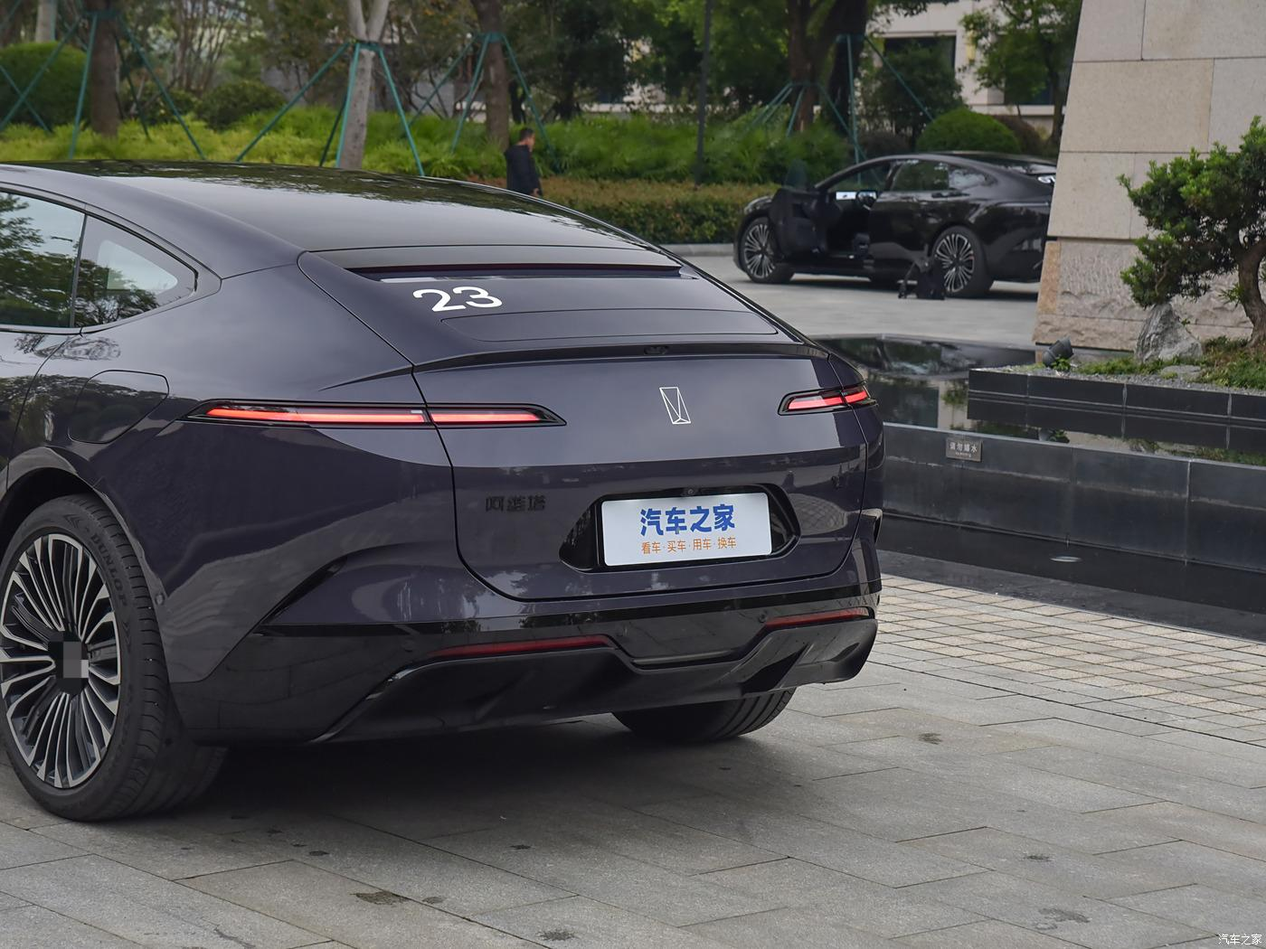AVATR: (659, 387, 691, 424)
